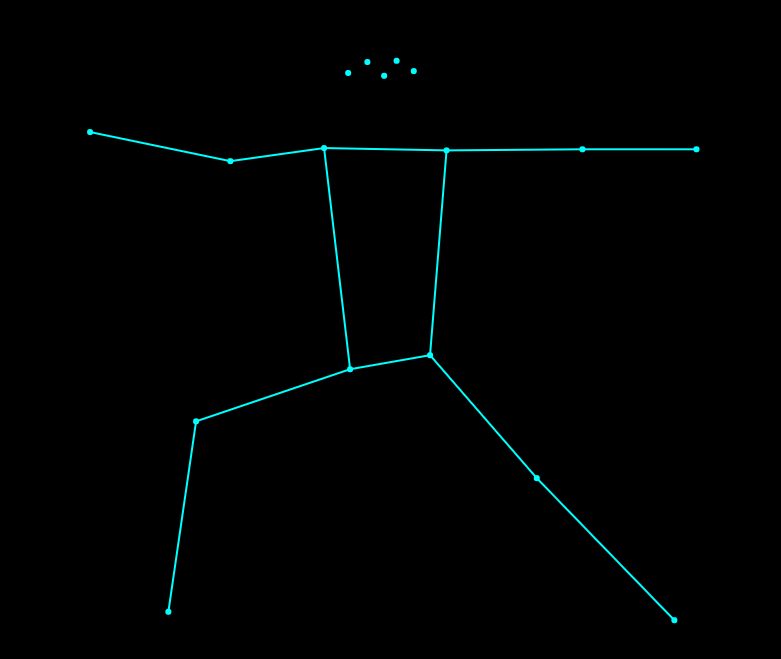warrior_2: (72, 45, 704, 627)
